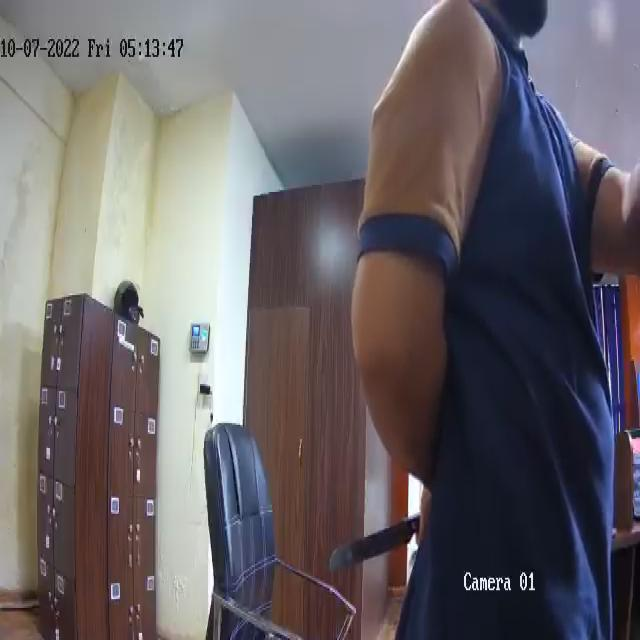Knife: (332, 505, 419, 592)
